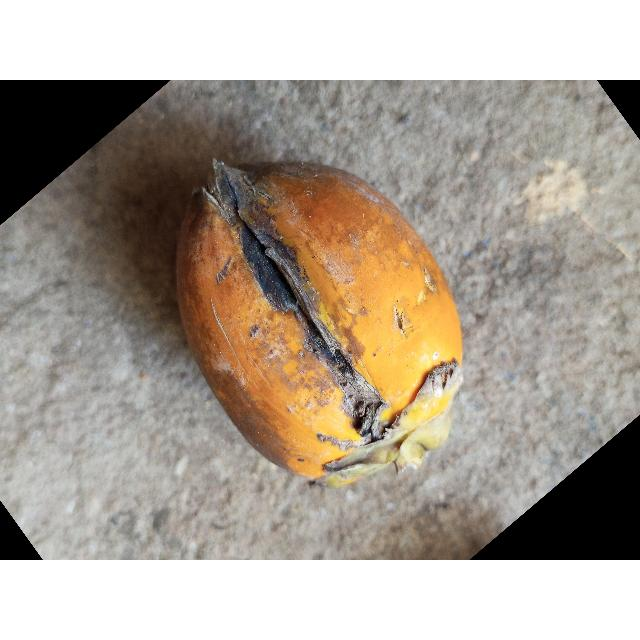damaged: (174, 160, 465, 489)
